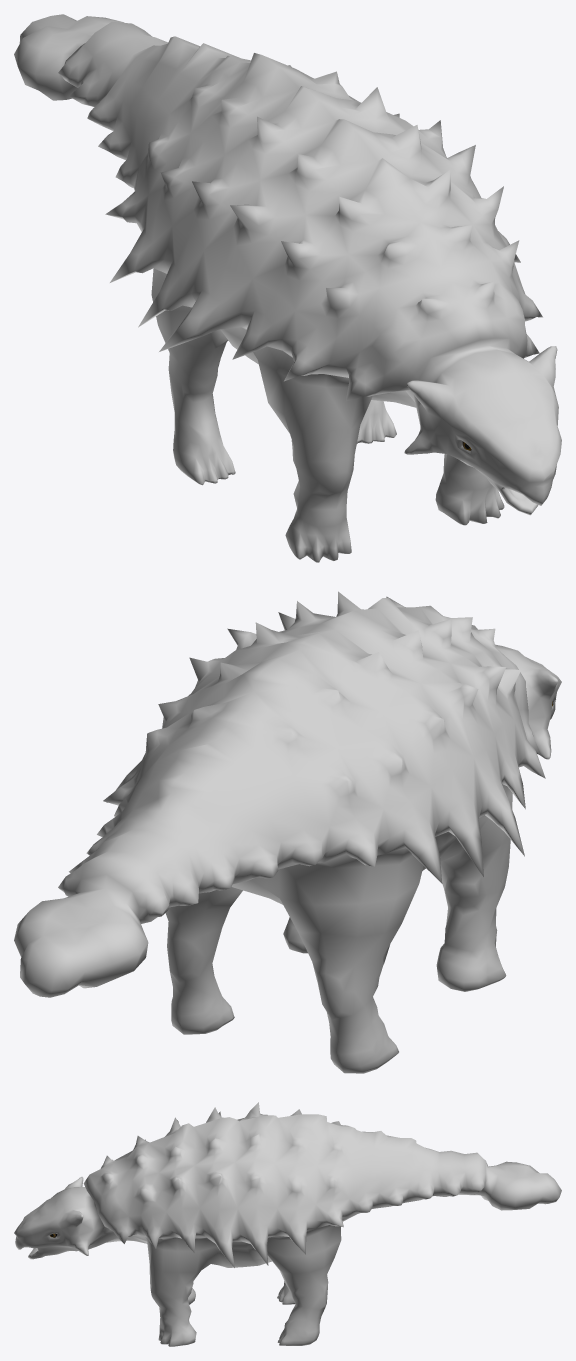
3 views of the same model, one above another, from view 1: azimuth 30°, elevation 25°; view 2: azimuth 150°, elevation 25°; view 3: azimuth 270°, elevation 25° (orthographic). The views are drawn at different scales.
Parts seen in each view (by area): view 1: RetopoGroup003; view 2: RetopoGroup003; view 3: RetopoGroup003.
Boxes of the visible parts, x1,y1,x2,y2 form: RetopoGroup003: (14,14,561,562); RetopoGroup003: (14,591,561,1073); RetopoGroup003: (14,1102,561,1346).
Size of the model in its own units: 349 by 351 by 841.
